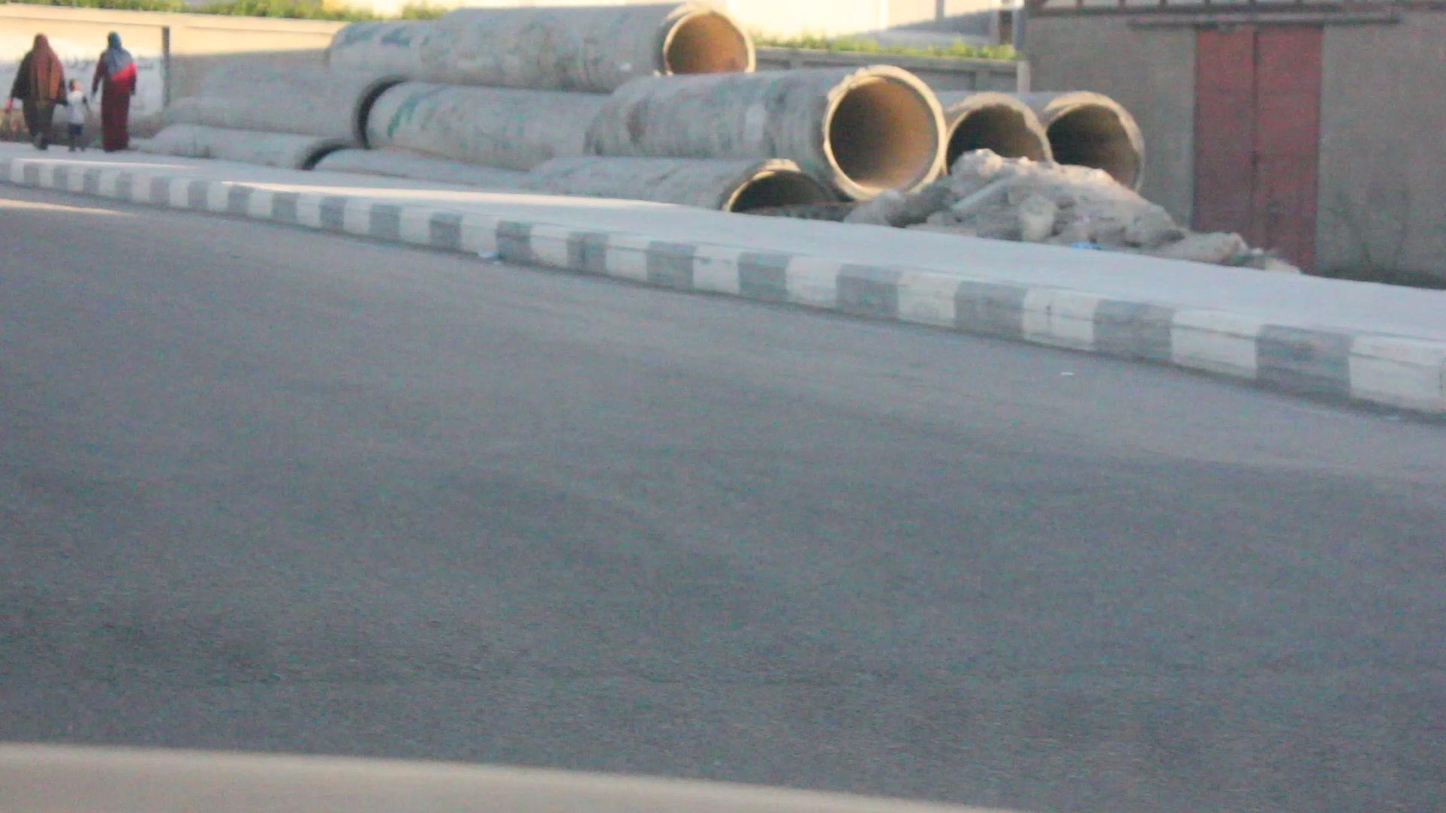Bump: (0, 442, 1446, 693)
